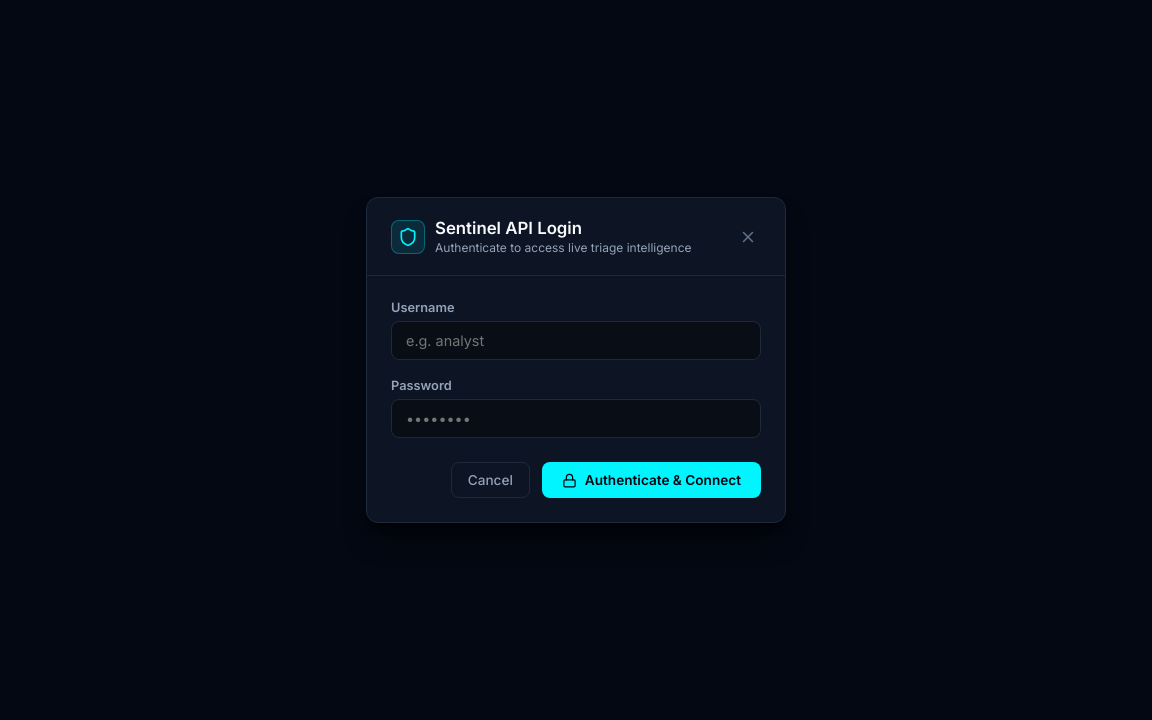
Test: SecOps Authentication & Credential Security Tests › LoginModal renders username and password fields and displays error on failure
Expected: the heading "Sentinel API Login" is shown, x1=435 y1=218 x2=582 y2=238
Step 1. Type "baduser" into the field labelled "Username" → x=576, y=340, box x1=391 y1=321 x2=761 y2=360
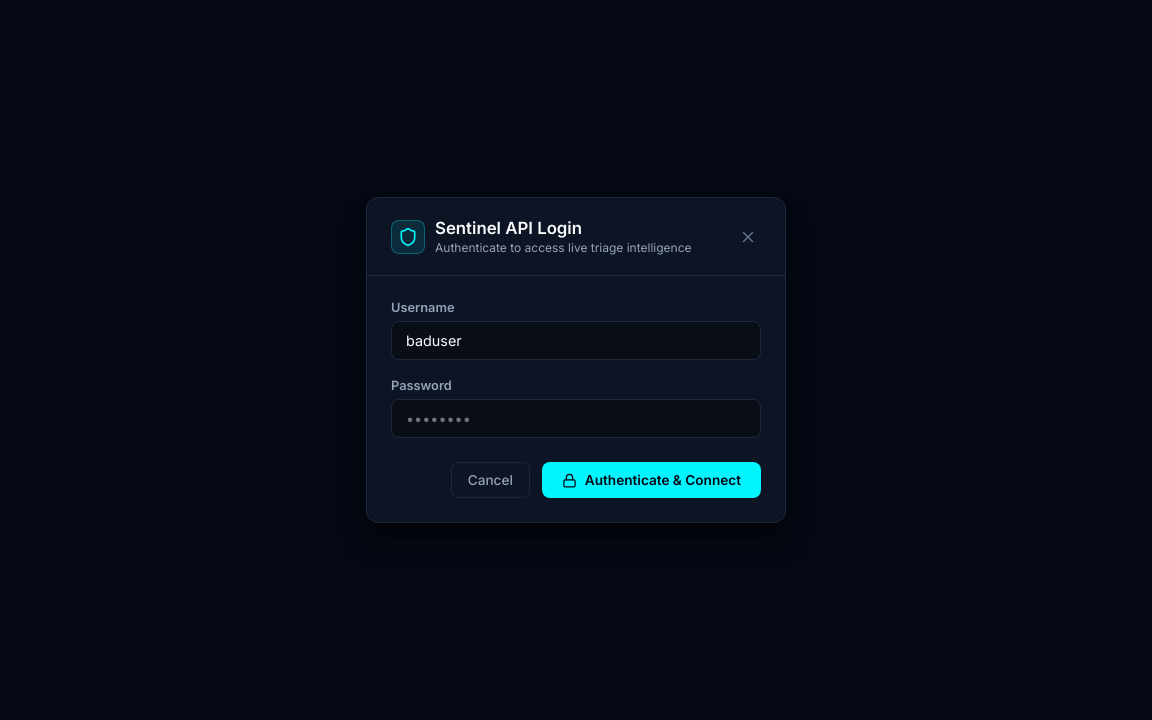
Step 2. Type "badpass" into the password field labelled "Password" → x=576, y=418, box x1=391 y1=399 x2=761 y2=438
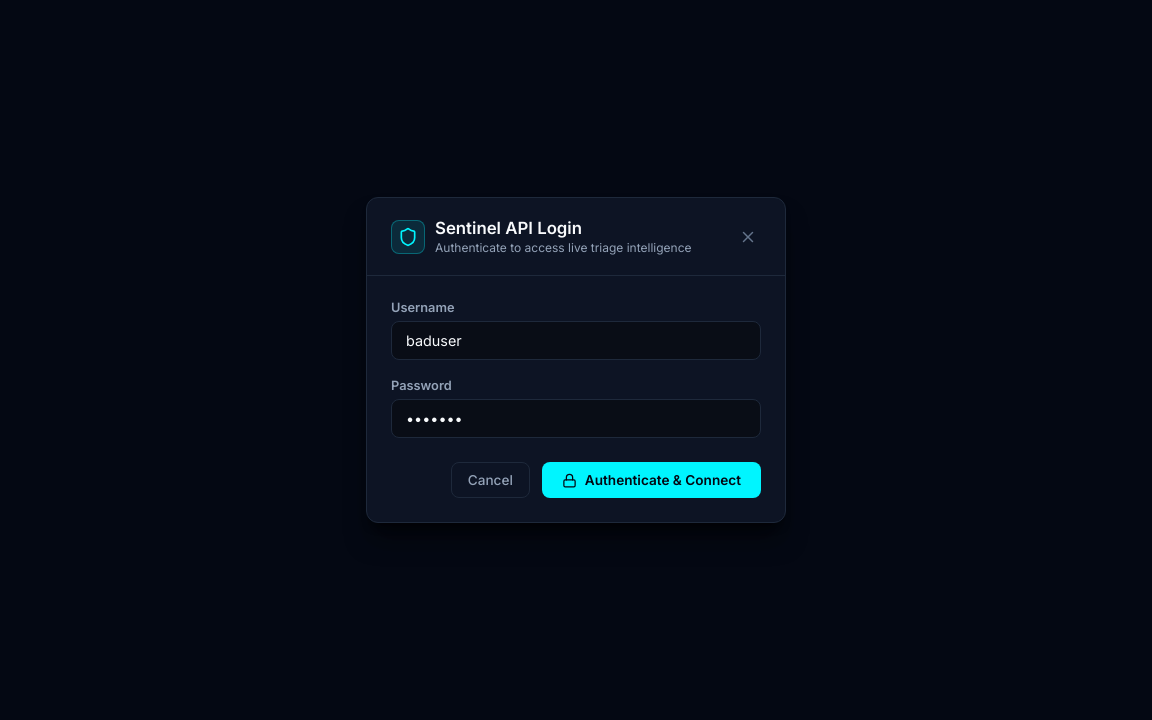
Step 3. Click the button "Authenticate & Connect" → x=651, y=480, box x1=542 y1=462 x2=761 y2=498
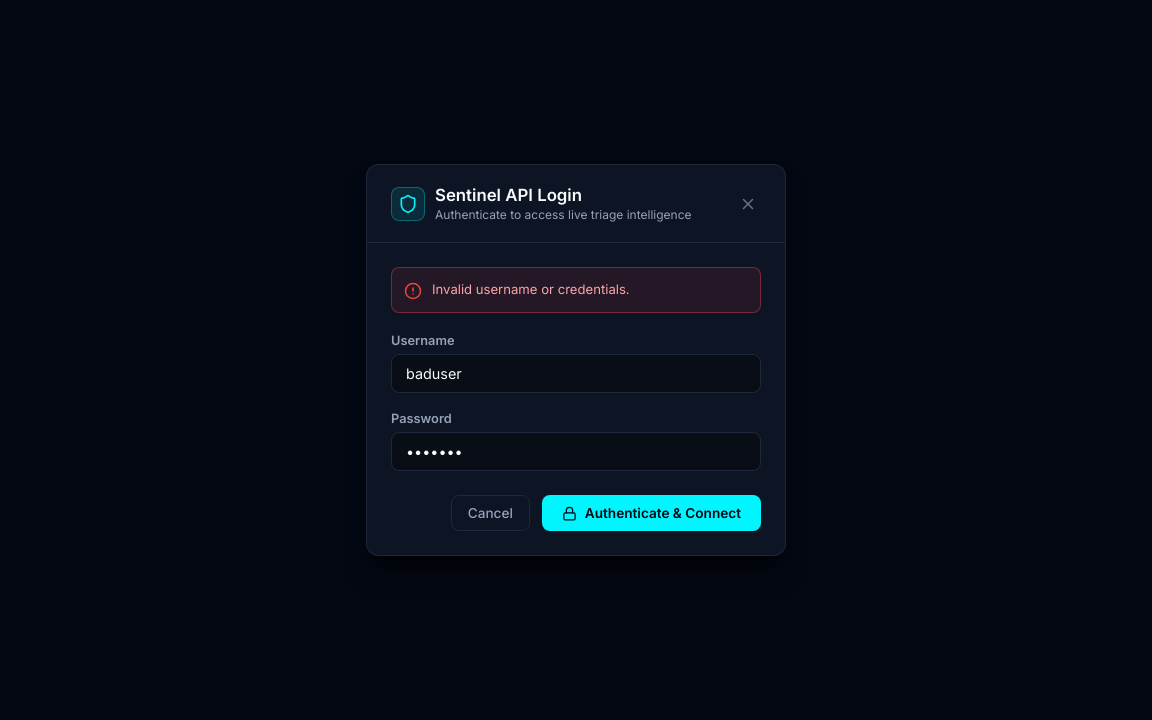
Result: the text "Invalid username or credentials." is shown at x1=432 y1=280 x2=630 y2=298
